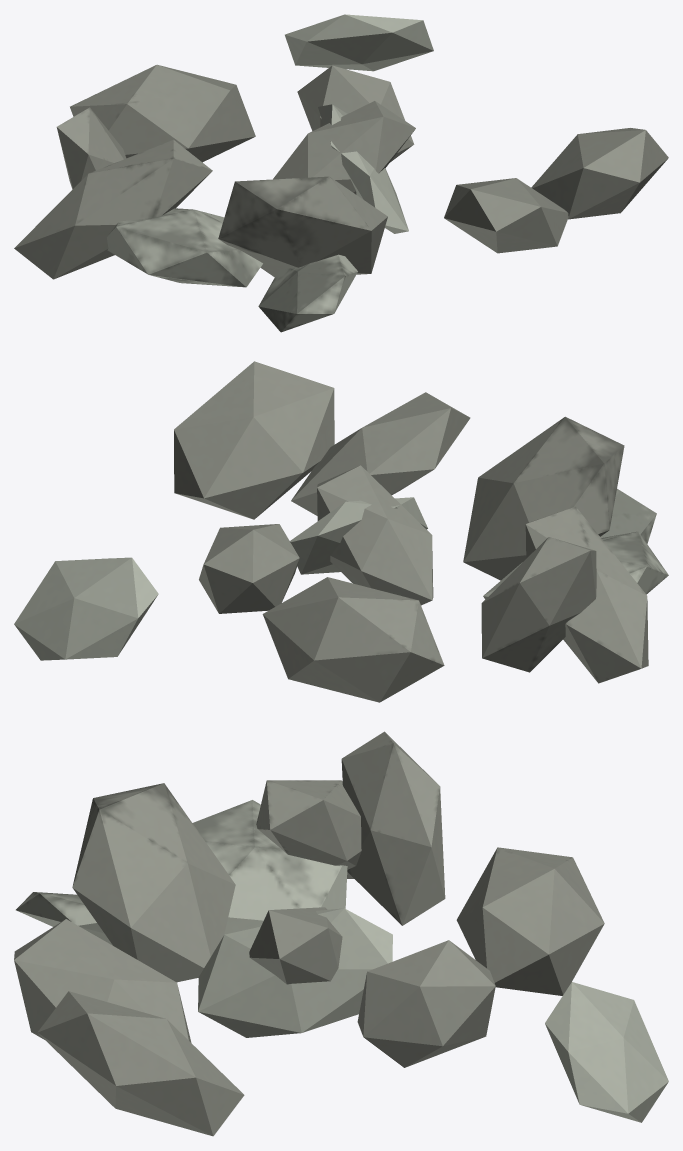
File: rubble_cluster.glb
3 renders of one model, top to bottom at view 1: azimuth 30°, elevation 25°; view 2: azimuth 150°, elevation 25°; view 3: azimuth 270°, elevation 25°, orthographic. The views are drawn at different scales.
Parts seen in each view (by area): view 1: rubble_cluster; view 2: rubble_cluster; view 3: rubble_cluster.
Part boxes in pixels (x1=…): rubble_cluster: x1=14, y1=14, x2=668, y2=332; rubble_cluster: x1=14, y1=361, x2=668, y2=702; rubble_cluster: x1=14, y1=731, x2=668, y2=1136.
Bounding box in the file's own units: 1.2 × 0.2934 × 1.09.
1 material, 1 textured.
